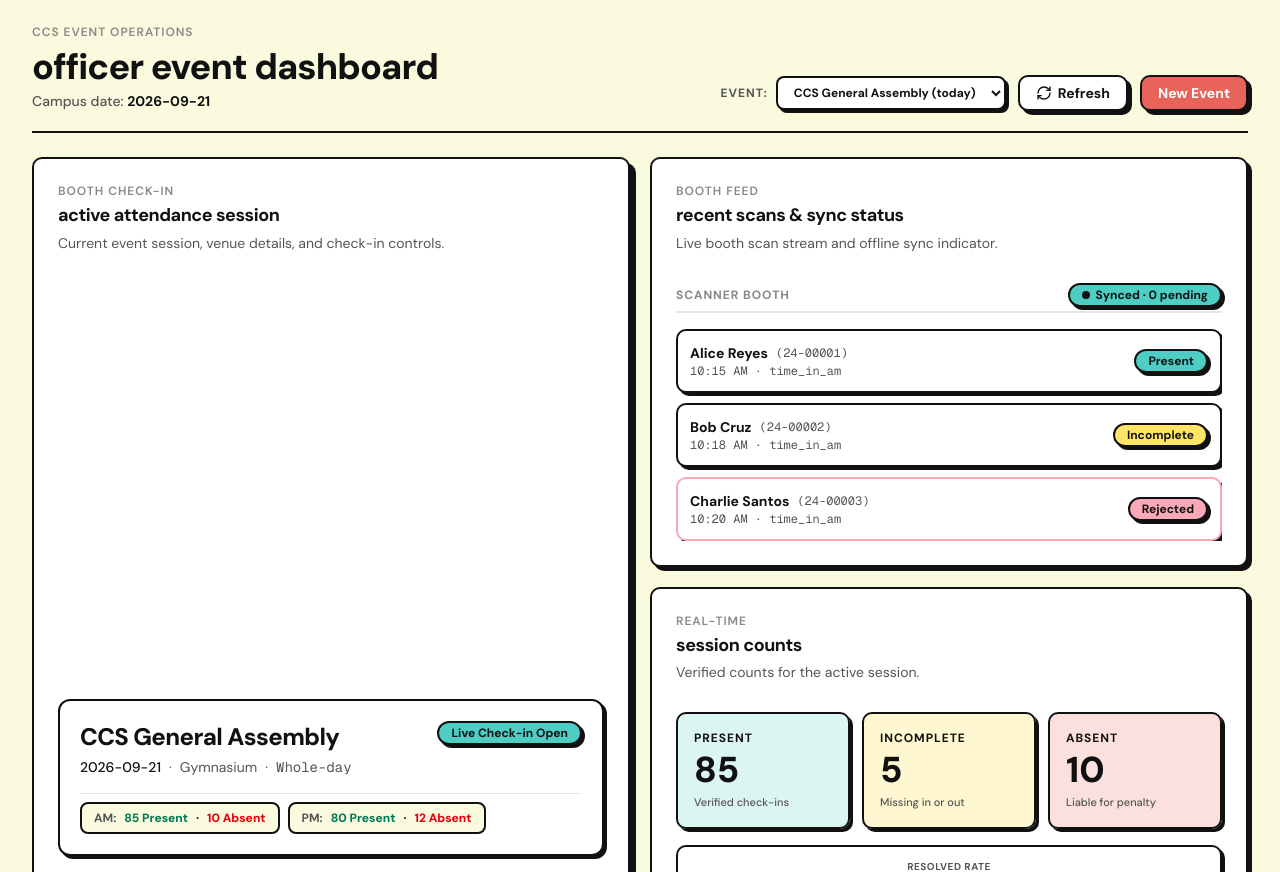
Test: DashboardView Bento Interface › supports event switching to update active session hero and real-time counts
Expected: the heading with test id "active-event-name" reads "CCS General Assembly", top-left (80, 720), bottom-right (339, 752)
Expected: the text with test id "realtime-count-present" reads "85", top-left (694, 746), bottom-right (739, 793)
Select "Hackathon 2026 (upcoming)" in the dropdown with test id "event-switcher-select" at point(891, 93), box top-left (776, 76), bottom-right (1006, 110)
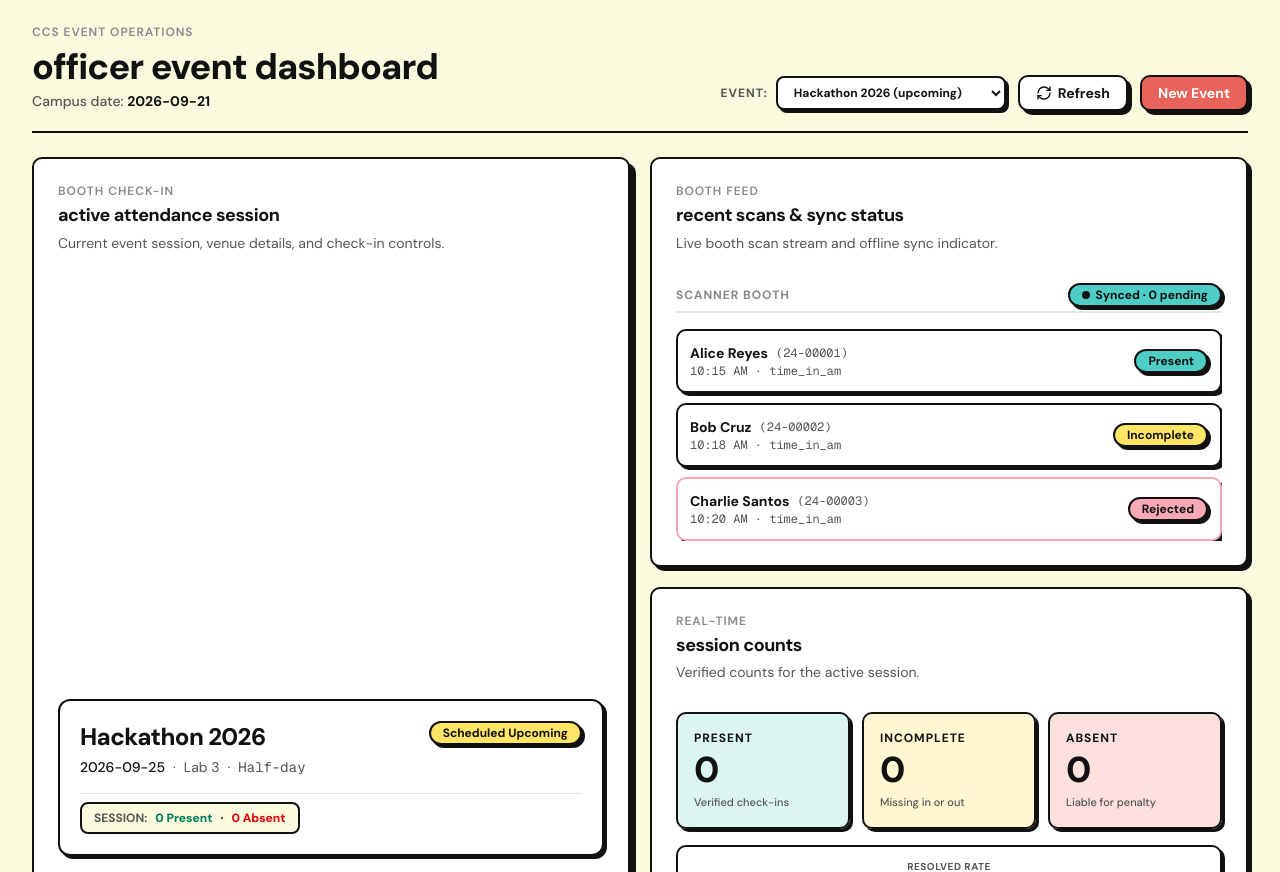
Expected: the heading with test id "active-event-name" reads "Hackathon 2026", top-left (80, 720), bottom-right (266, 752)
Expected: the text "Lab 3" is shown, top-left (184, 756), bottom-right (220, 776)
Expected: the text with test id "realtime-count-present" reads "0", top-left (694, 746), bottom-right (719, 793)
// Switch to Tech Talk 1 (past)
Select "Tech Talk 1 (past)" in the dropdown with test id "event-switcher-select" at point(891, 93), box top-left (776, 76), bottom-right (1006, 110)
(page scrolled)
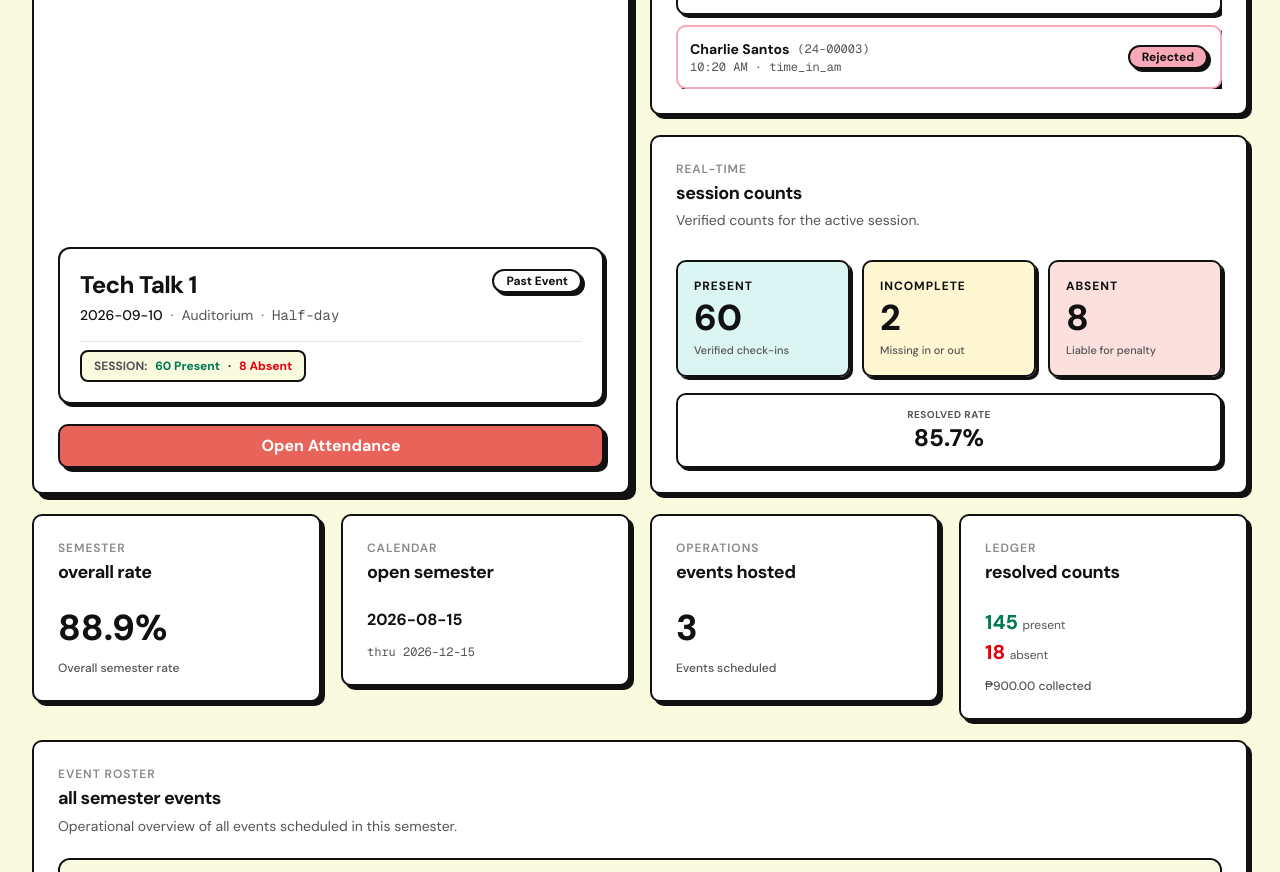
Expected: the heading with test id "active-event-name" reads "Tech Talk 1", top-left (80, 268), bottom-right (197, 300)
Expected: the text "Auditorium" is shown, top-left (181, 304), bottom-right (253, 324)
Expected: the text with test id "realtime-count-present" reads "60", top-left (694, 294), bottom-right (742, 341)
